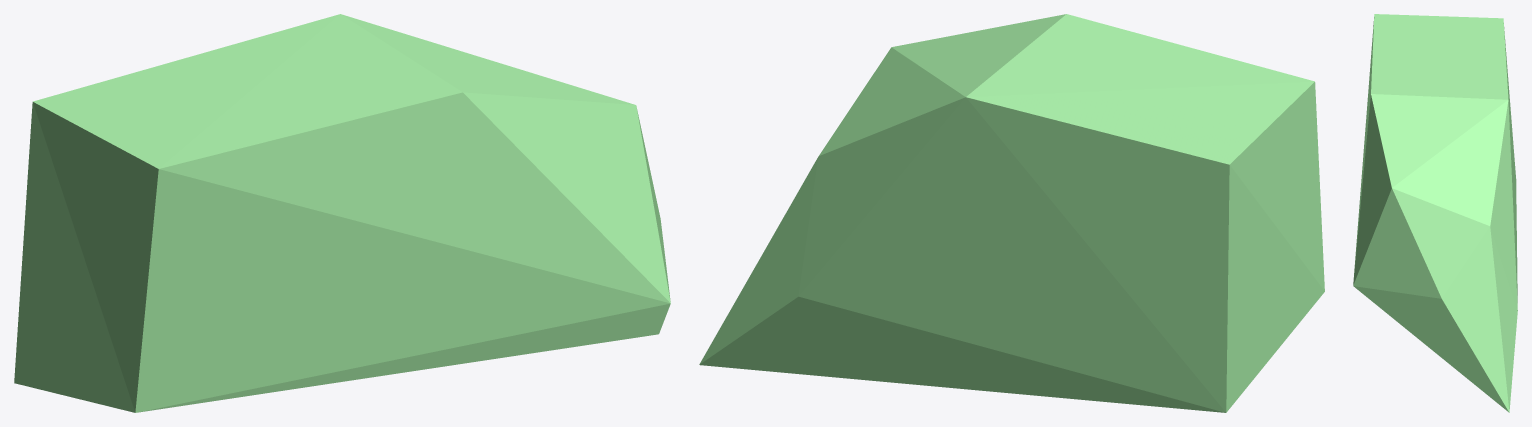
Rendered from linkhou_LR4_R560_link7_respondable_coll_7.dae.
3 renders of one model, left to right at view 1: azimuth 30°, elevation 25°; view 2: azimuth 150°, elevation 25°; view 3: azimuth 270°, elevation 25°, orthographic. The views are drawn at different scales.
Parts seen in each view (by area): view 1: Node_00000209DB3ACC00; view 2: Node_00000209DB3ACC00; view 3: Node_00000209DB3ACC00.
Part boxes in pixels (<box>): Node_00000209DB3ACC00: <box>14,14,670,412</box>; Node_00000209DB3ACC00: <box>699,14,1324,412</box>; Node_00000209DB3ACC00: <box>1353,14,1517,412</box>.
Bounding box in the file's own units: 0.00998 × 0.00611 × 0.00395.
